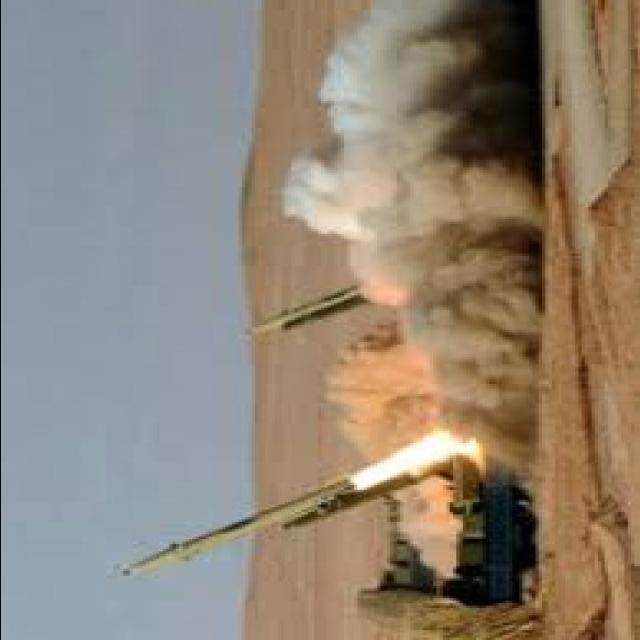missile: (122, 468, 362, 584), (244, 285, 376, 340)
